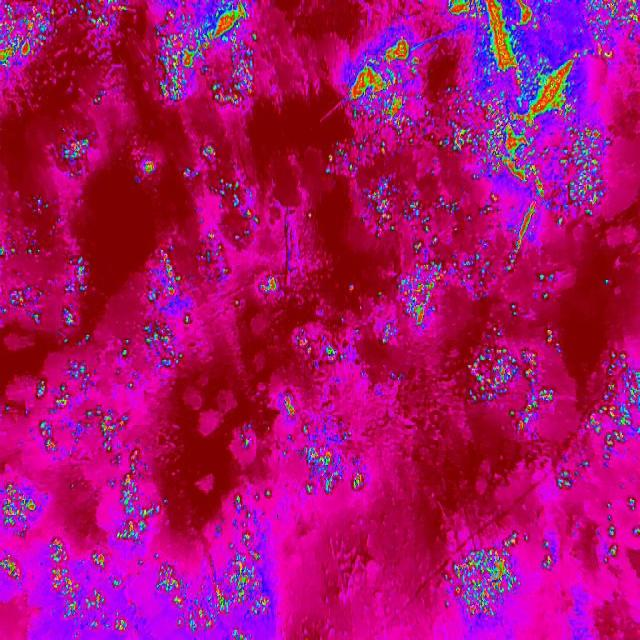fire: (322, 0, 640, 329), (0, 210, 122, 640), (120, 412, 274, 640), (459, 329, 640, 496), (54, 132, 266, 220), (272, 326, 376, 503), (137, 219, 286, 317), (436, 522, 556, 640), (147, 0, 267, 110), (0, 0, 129, 79), (116, 316, 196, 380), (595, 496, 640, 566)
